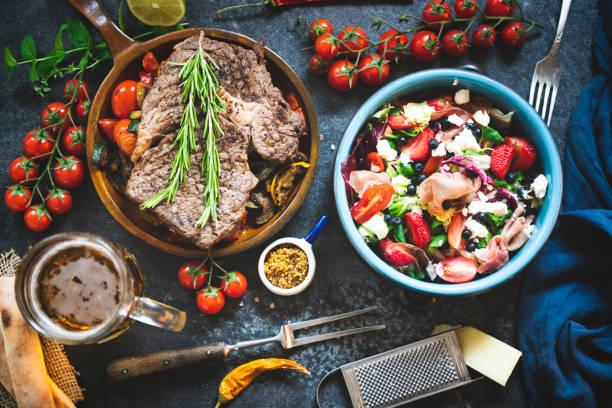Braised Crucian Carp: (83, 24, 311, 258), (333, 68, 559, 297)
